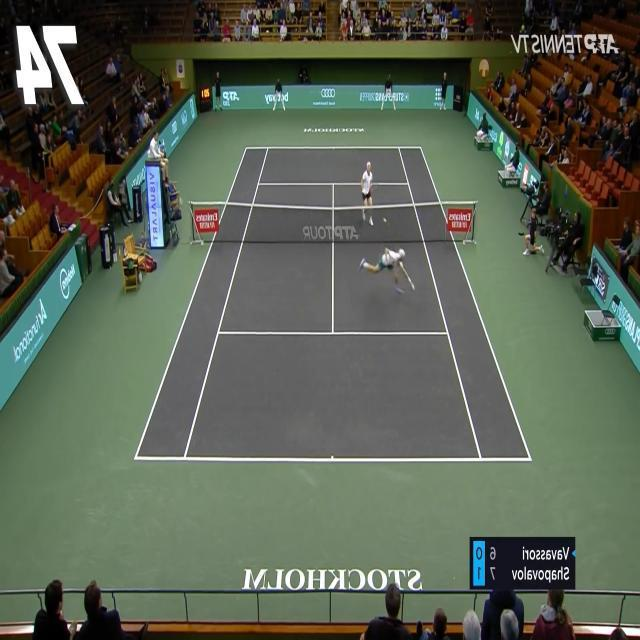court: (133, 146, 532, 462)
net: (189, 200, 476, 243)
player: (358, 247, 415, 296)
